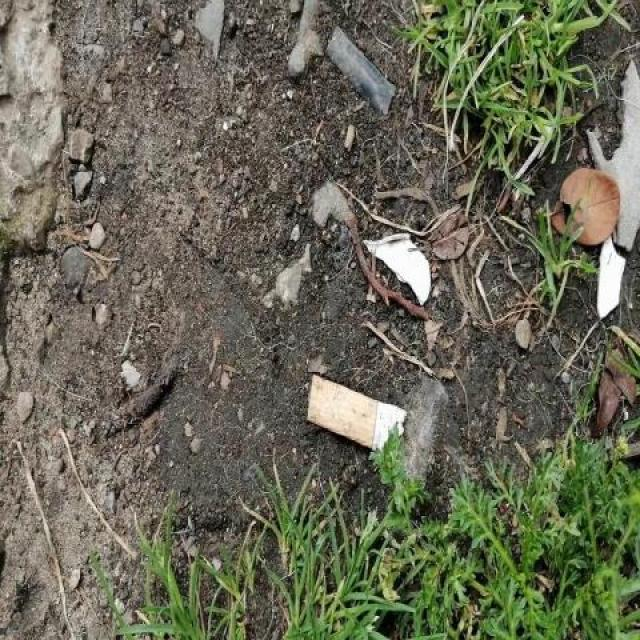non-organic waste: (304, 369, 412, 460)
